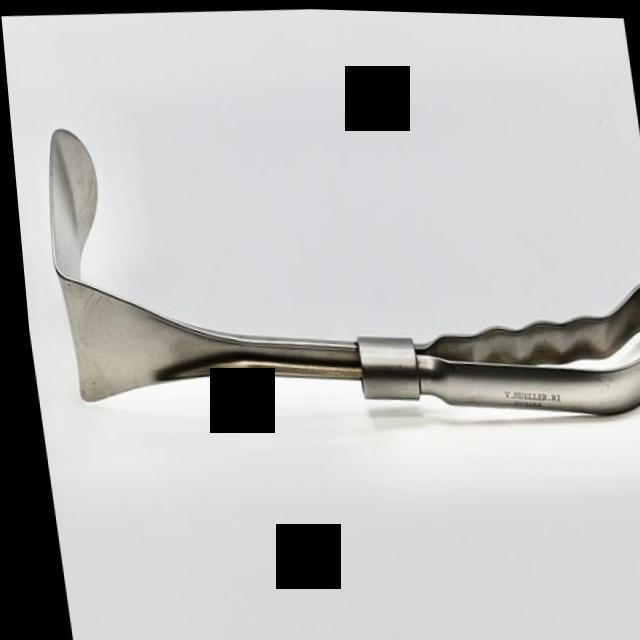Kelly Retractor: (24, 87, 640, 440)
